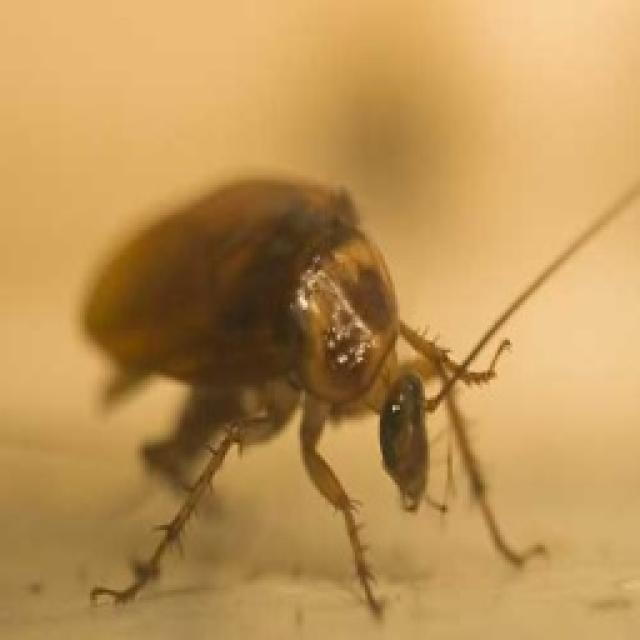cockroach: (82, 143, 536, 618)
